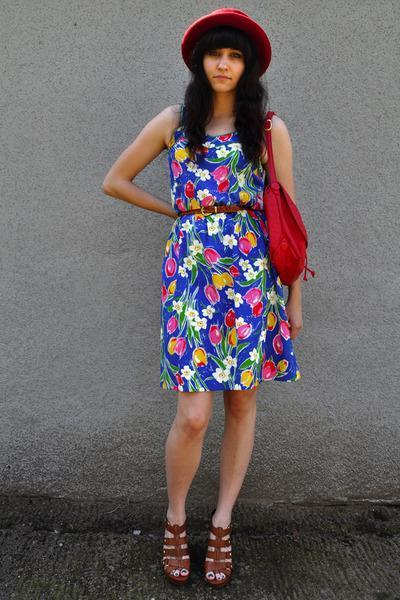dress: (142, 105, 304, 401)
